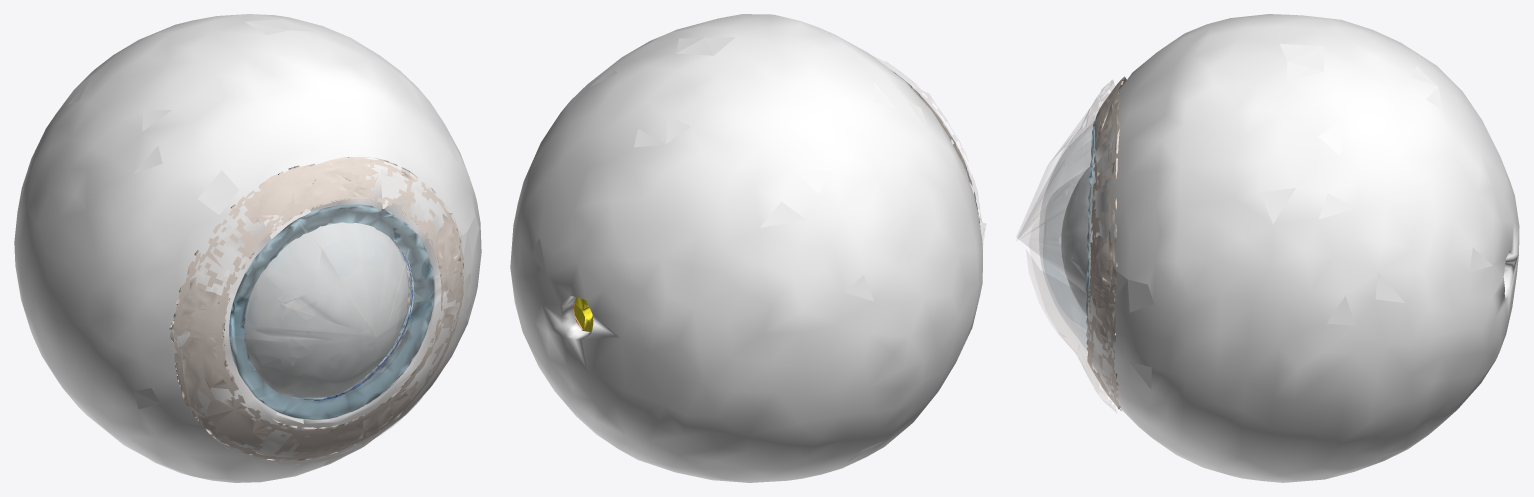
The model's file is 3d-vh-m-eye-r-20.glb.
3 views of the same model, side by side, from view 1: azimuth 30°, elevation 25°; view 2: azimuth 150°, elevation 25°; view 3: azimuth 270°, elevation 25° (orthographic).
Parts seen in each view (by area): view 1: VH_M_sclera_R, VH_M_cornea_R, VH_M_palpebral_conjunctiva_of_upper_eyelid_R, VH_M_palpebral_conjunctiva_of_lower_eyelid_R, VH_M_bulbar_conjunctiva_R, VH_M_aqueous_humor_R, VH_M_corneo_scleral_junction_R, VH_M_trabecular_meshwork_R; view 2: VH_M_sclera_R, VH_M_palpebral_conjunctiva_of_upper_eyelid_R; view 3: VH_M_sclera_R, VH_M_palpebral_conjunctiva_of_upper_eyelid_R, VH_M_cornea_R, VH_M_bulbar_conjunctiva_R, VH_M_palpebral_conjunctiva_of_lower_eyelid_R, VH_M_aqueous_humor_R, VH_M_corneo_scleral_junction_R.
Boxes of the visible parts, x1,y1,x2,y2 form: VH_M_sclera_R: (14,14,481,482); VH_M_cornea_R: (230,207,434,419); VH_M_palpebral_conjunctiva_of_upper_eyelid_R: (177,161,464,341); VH_M_palpebral_conjunctiva_of_lower_eyelid_R: (175,274,469,464); VH_M_bulbar_conjunctiva_R: (169,157,463,461); VH_M_aqueous_humor_R: (244,222,409,398); VH_M_corneo_scleral_junction_R: (229,204,434,419); VH_M_trabecular_meshwork_R: (287,240,414,400); VH_M_sclera_R: (510,14,982,482); VH_M_palpebral_conjunctiva_of_upper_eyelid_R: (873,56,981,221); VH_M_sclera_R: (1087,14,1519,482); VH_M_palpebral_conjunctiva_of_upper_eyelid_R: (1017,80,1114,306); VH_M_cornea_R: (1039,124,1093,350); VH_M_bulbar_conjunctiva_R: (1087,76,1126,411); VH_M_palpebral_conjunctiva_of_lower_eyelid_R: (1026,220,1116,412); VH_M_aqueous_humor_R: (1061,167,1090,314); VH_M_corneo_scleral_junction_R: (1086,120,1095,349).
Bounding box in the file's own units: 0.0245 × 0.0244 × 0.0263.
